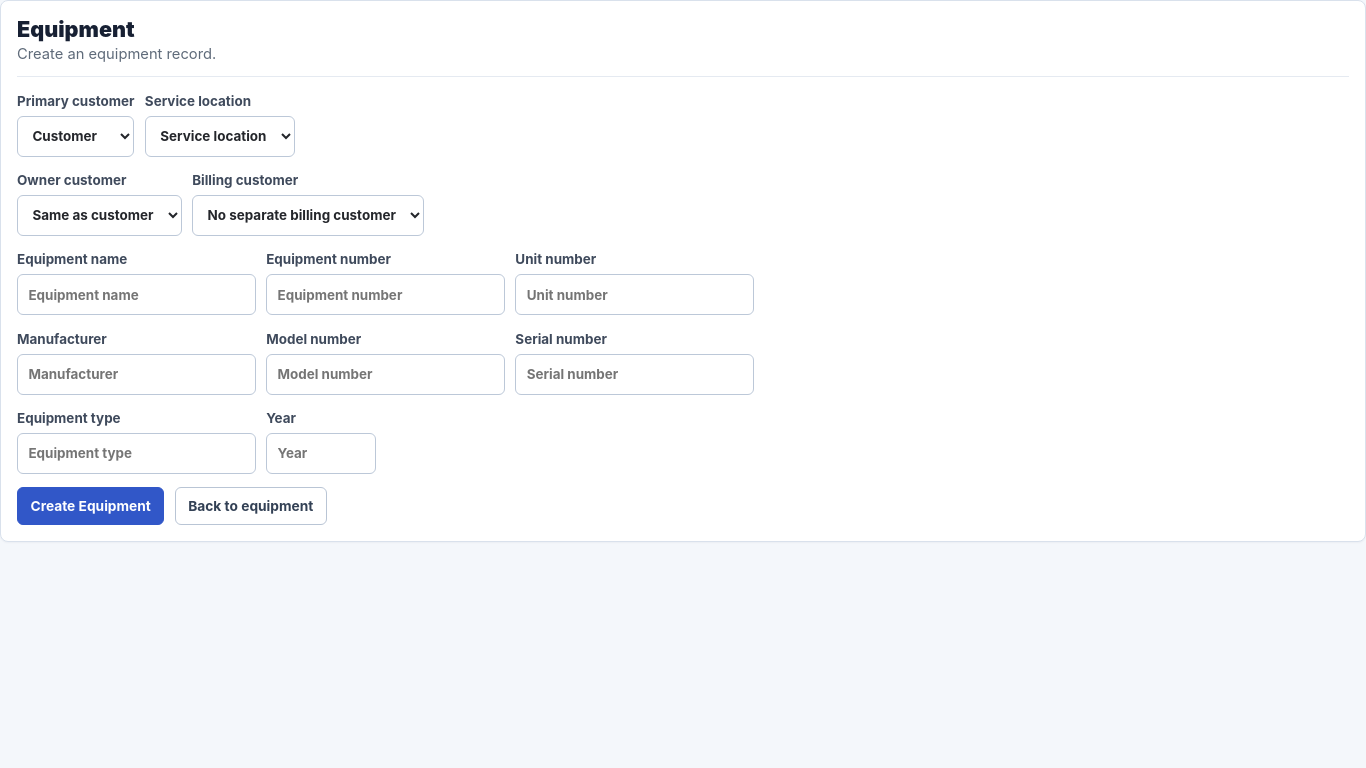
Test: Manager/Admin master-data filter defaults › uses active equipment relationship options for creates and keeps archived selected relationships in edit mode
The image size is (1366, 768).
Expected: the option "Archived Customer" is not shown
Select "c1" in the dropdown labelled "Primary customer": (76, 136) [17,116,134,156]
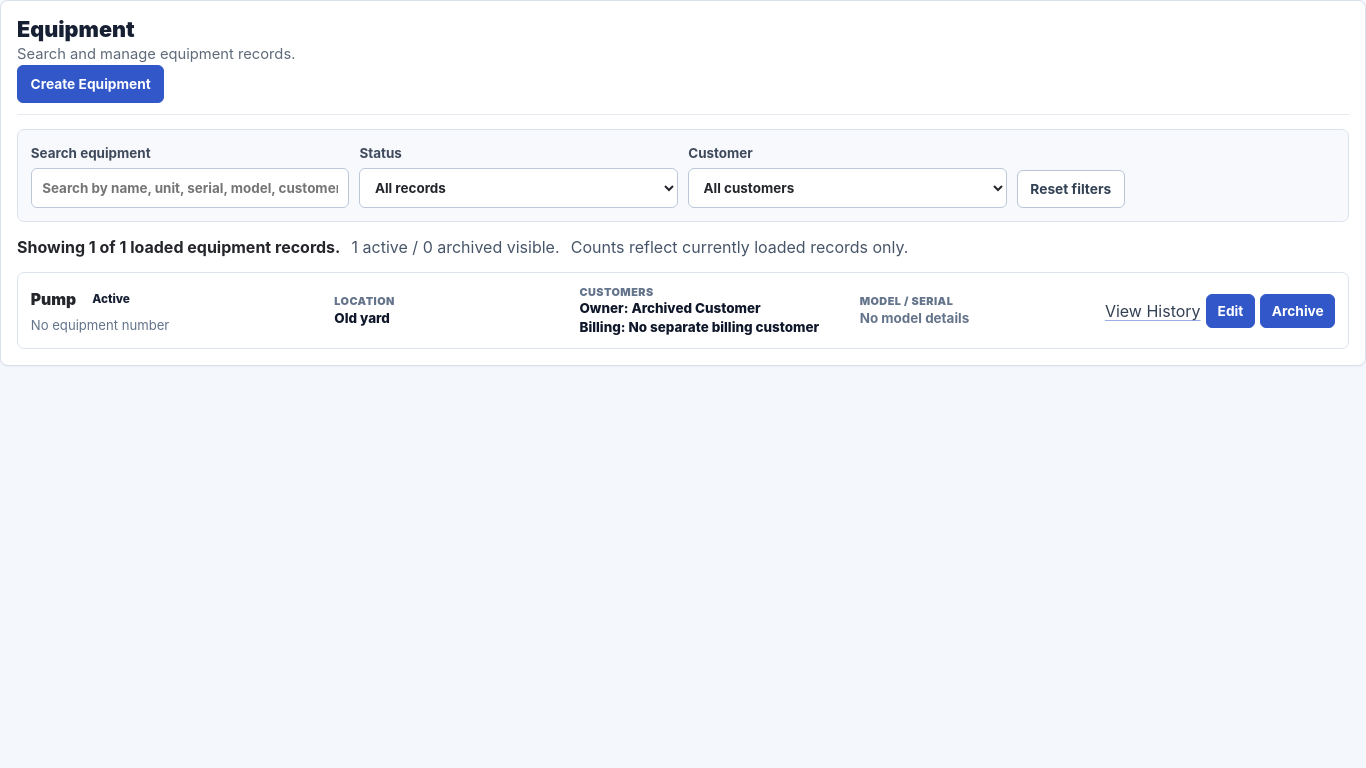
Click the button "Edit": (1230, 311) [1206,294,1255,328]
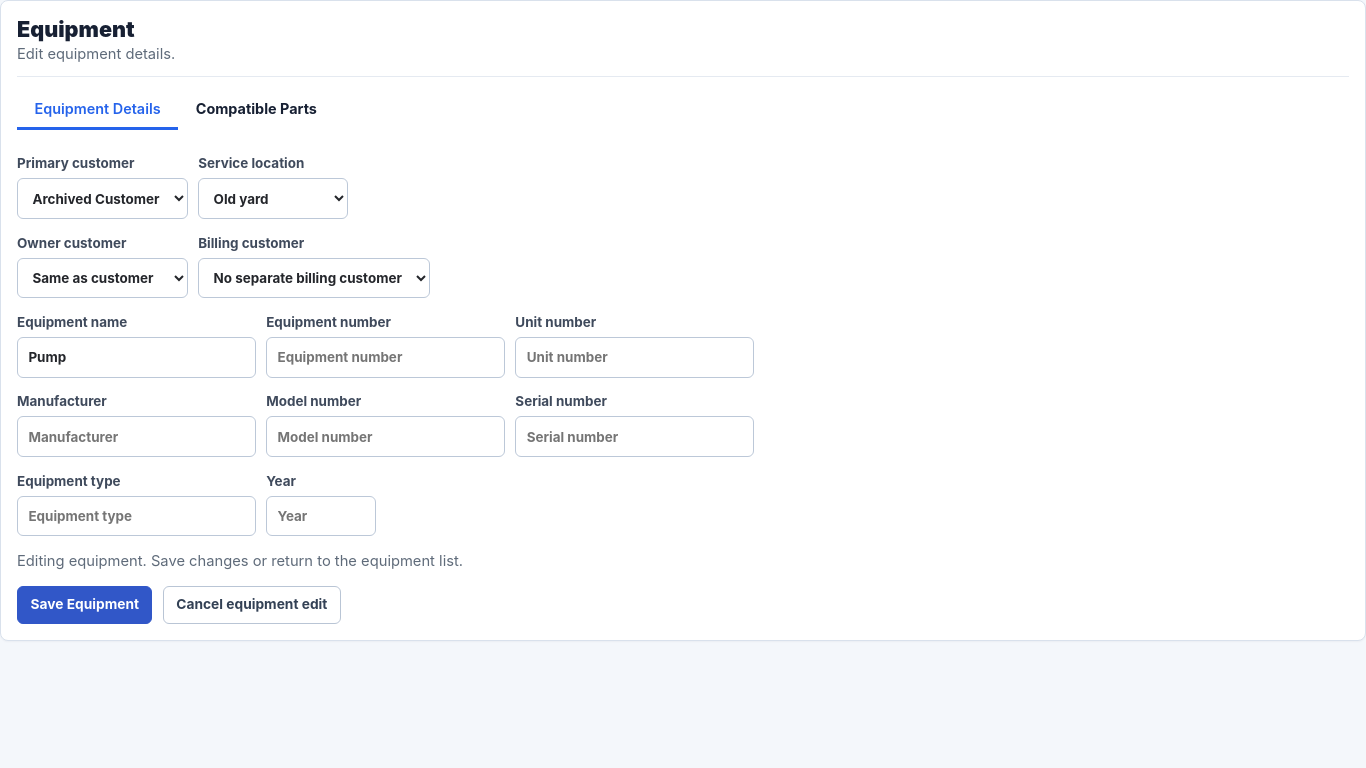
Expected: the dropdown labelled "Service location" shows "Old yard", [198,178,348,219]
